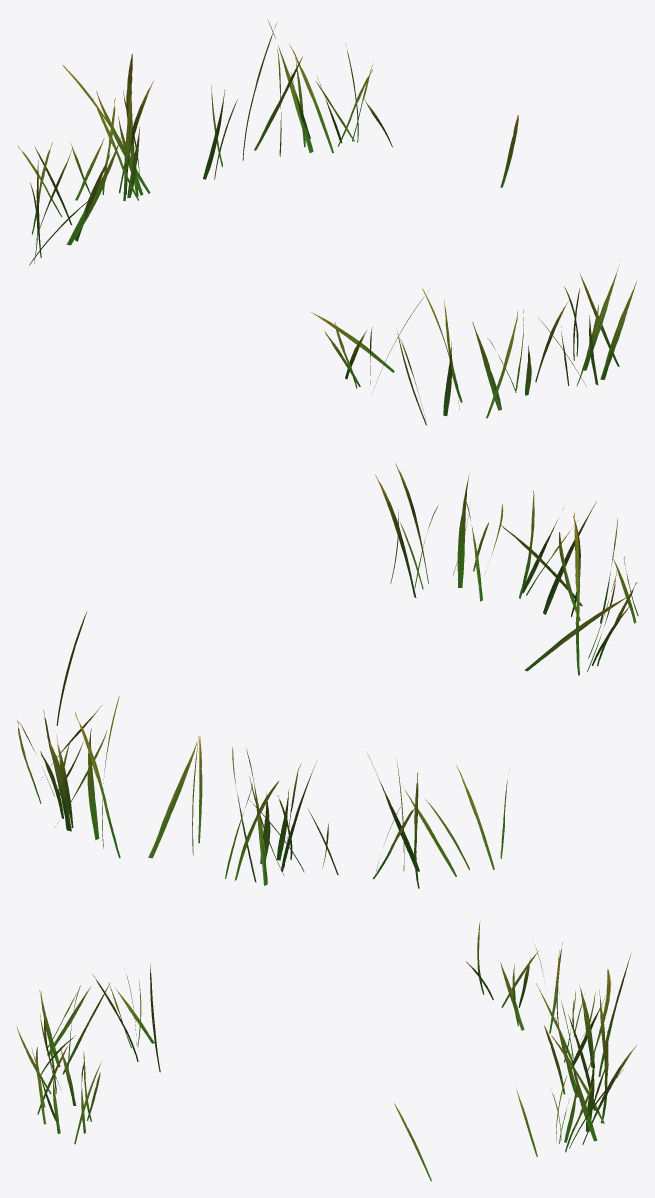
File: grasspatch.glb
3 renders of one model, top to bottom at view 1: azimuth 30°, elevation 25°; view 2: azimuth 150°, elevation 25°; view 3: azimuth 270°, elevation 25°, orthographic. The views are drawn at different scales.
Parts seen in each view (by area): view 1: GrassEmitterCircleMesh.004|BR_MainGrass_Diff.071|Dupli|117_B; view 2: GrassEmitterCircleMesh.004|BR_MainGrass_Diff.071|Dupli|117_B; view 3: GrassEmitterCircleMesh.004|BR_MainGrass_Diff.071|Dupli|117_B.
Boxes of the visible parts, x1,y1,x2,y2 form: GrassEmitterCircleMesh.004|BR_MainGrass_Diff.071|Dupli|117_B: (17,20,636,425); GrassEmitterCircleMesh.004|BR_MainGrass_Diff.071|Dupli|117_B: (17,463,638,888); GrassEmitterCircleMesh.004|BR_MainGrass_Diff.071|Dupli|117_B: (16,921,636,1181).
Size of the model in its own units: 7.3 by 2.22 by 10.48.
1 material, 1 textured.
